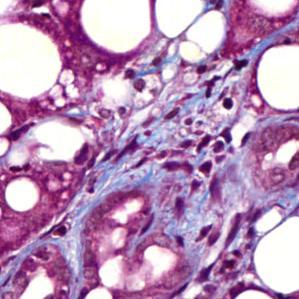steatosis: (4, 173, 42, 216)
